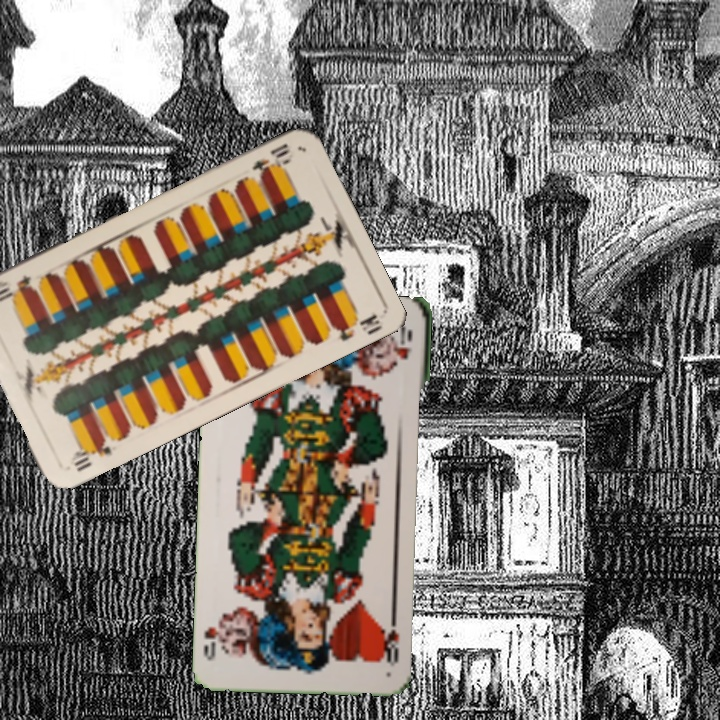E10: (65, 434, 114, 475), (248, 139, 294, 181)
HO: (385, 611, 401, 668)
